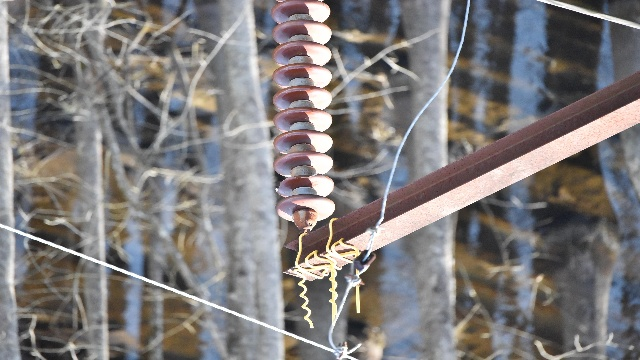broken_local: (274, 171, 324, 191)
insulator_unspecified: (270, 0, 337, 222)
